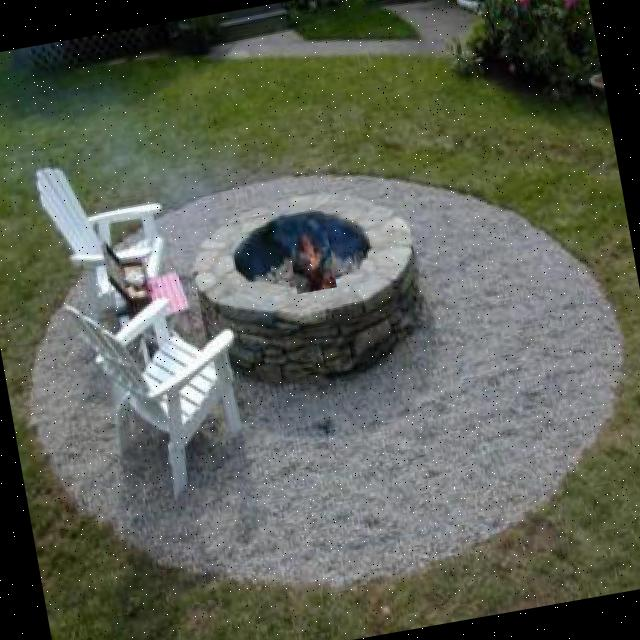fire: (284, 210, 336, 294)
